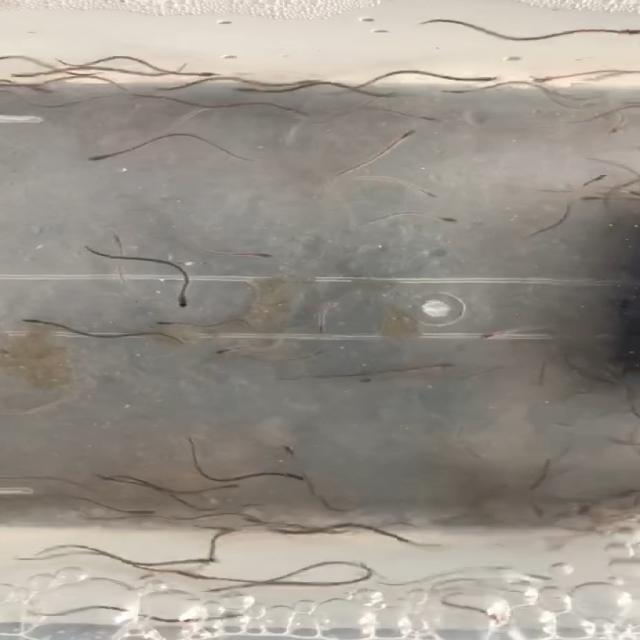active_glass_eel: (210, 608, 256, 623), (272, 442, 306, 462), (4, 68, 44, 85), (278, 470, 318, 485), (180, 553, 220, 568), (85, 150, 122, 166), (480, 327, 519, 342), (364, 87, 396, 105), (580, 169, 612, 187), (104, 228, 132, 248), (571, 500, 599, 520), (523, 505, 559, 520), (18, 316, 55, 330), (128, 506, 165, 520), (603, 120, 635, 136), (239, 511, 273, 526), (279, 104, 310, 120), (91, 472, 126, 486), (482, 609, 509, 627), (401, 113, 445, 124), (242, 251, 286, 262), (144, 318, 187, 329), (391, 126, 430, 138), (290, 77, 328, 89), (534, 71, 562, 87), (133, 570, 167, 583), (172, 294, 200, 309), (211, 346, 249, 357), (359, 376, 393, 388), (219, 86, 263, 95), (175, 69, 218, 78), (410, 188, 443, 199), (464, 74, 504, 83), (312, 319, 334, 335), (442, 86, 481, 95), (271, 525, 300, 537), (614, 24, 640, 36), (30, 85, 60, 95), (574, 195, 598, 205), (434, 216, 464, 223), (625, 186, 640, 197)
